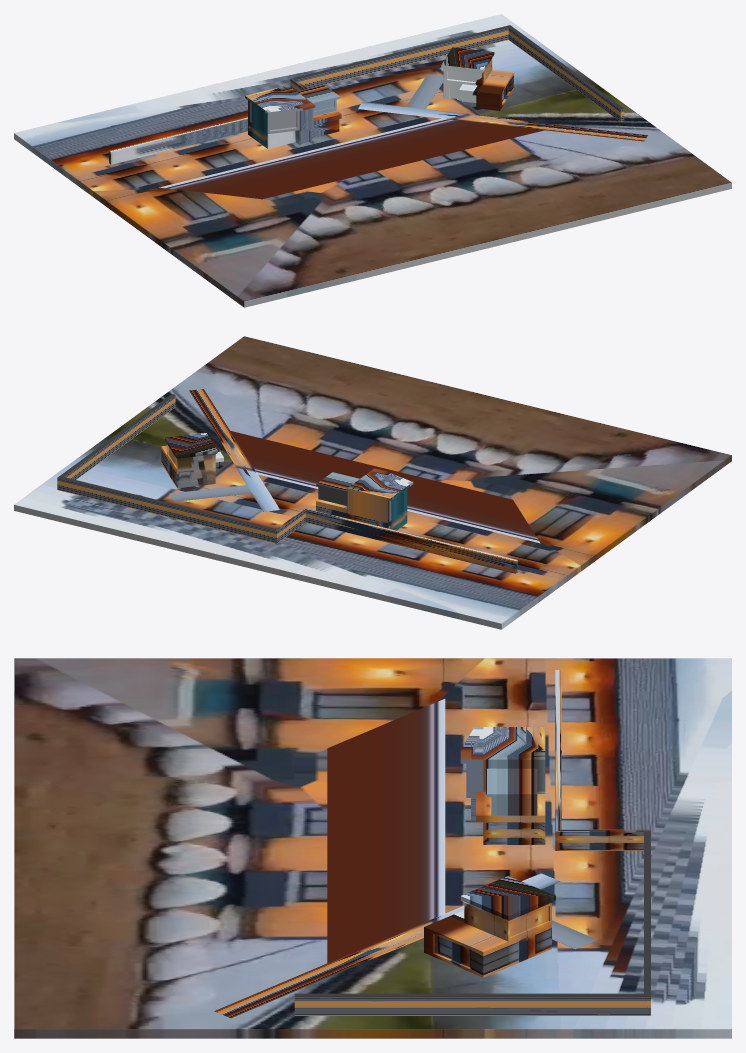
Rendered from projected_town.glb.
The picture shows the model from 3 angles, top to bottom: view 1: azimuth 30°, elevation 25°; view 2: azimuth 150°, elevation 25°; view 3: azimuth 270°, elevation 25°; orthographic projection. The views are drawn at different scales.
Visible parts, largest first — view 1: Plane.020, road.001, wall, h1, h2; view 2: Plane.020, road.001, wall, h1, h2; view 3: Plane.020, road.001, wall, h1, h2.
Boxes of the visible parts, box(x1,y1,x2,y2) form: Plane.020: box(14, 14, 731, 307); road.001: box(159, 74, 647, 199); wall: box(109, 25, 624, 164); h1: box(245, 85, 341, 148); h2: box(441, 47, 513, 110); Plane.020: box(14, 336, 731, 629); road.001: box(169, 389, 540, 543); wall: box(57, 394, 517, 573); h1: box(316, 468, 413, 530); h2: box(161, 433, 223, 488); Plane.020: box(14, 658, 731, 1038); road.001: box(214, 699, 597, 1018); wall: box(294, 670, 650, 1015); h1: box(460, 727, 545, 844); h2: box(424, 876, 555, 977).
Size of what is drawn, in the model's own units: 28.33 by 2.53 by 23.18.
Materials: 7 (7 with a texture image).
